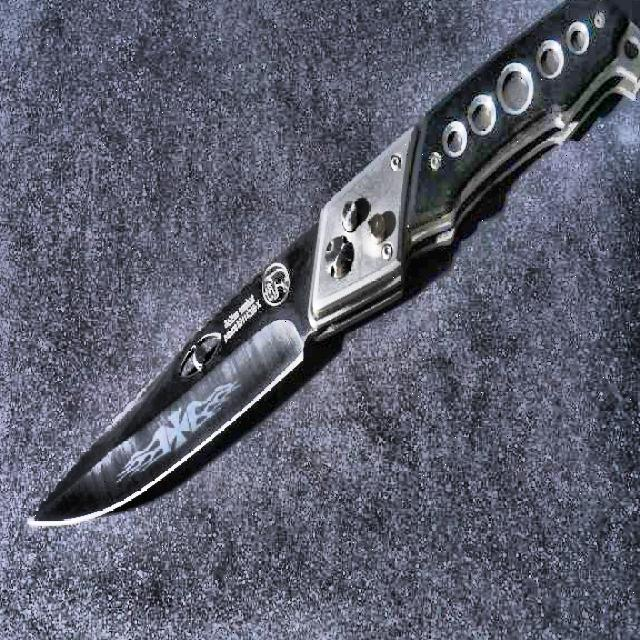knife: (29, 0, 640, 544)
